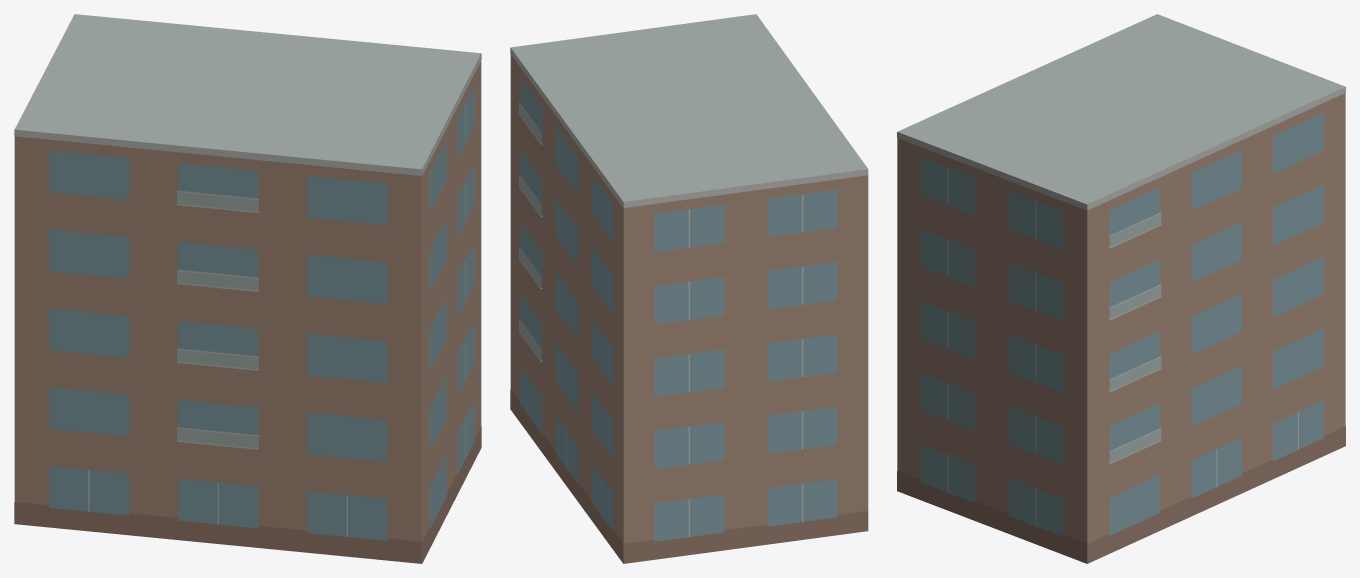
File: survey-upis-32843807.glb
3 renders of one model, left to right at view 1: azimuth 30°, elevation 25°; view 2: azimuth 150°, elevation 25°; view 3: azimuth 270°, elevation 25°, orthographic. The views are drawn at different scales.
Parts seen in each view (by area): view 1: survey-upis-32843807.tmp; view 2: survey-upis-32843807.tmp; view 3: survey-upis-32843807.tmp.
Boxes of the visible parts, x1,y1,x2,y2 form: survey-upis-32843807.tmp: (14, 14, 481, 563); survey-upis-32843807.tmp: (510, 14, 868, 563); survey-upis-32843807.tmp: (897, 14, 1345, 563).
Size of the model in its own units: 16.44 by 14.45 by 16.36.
